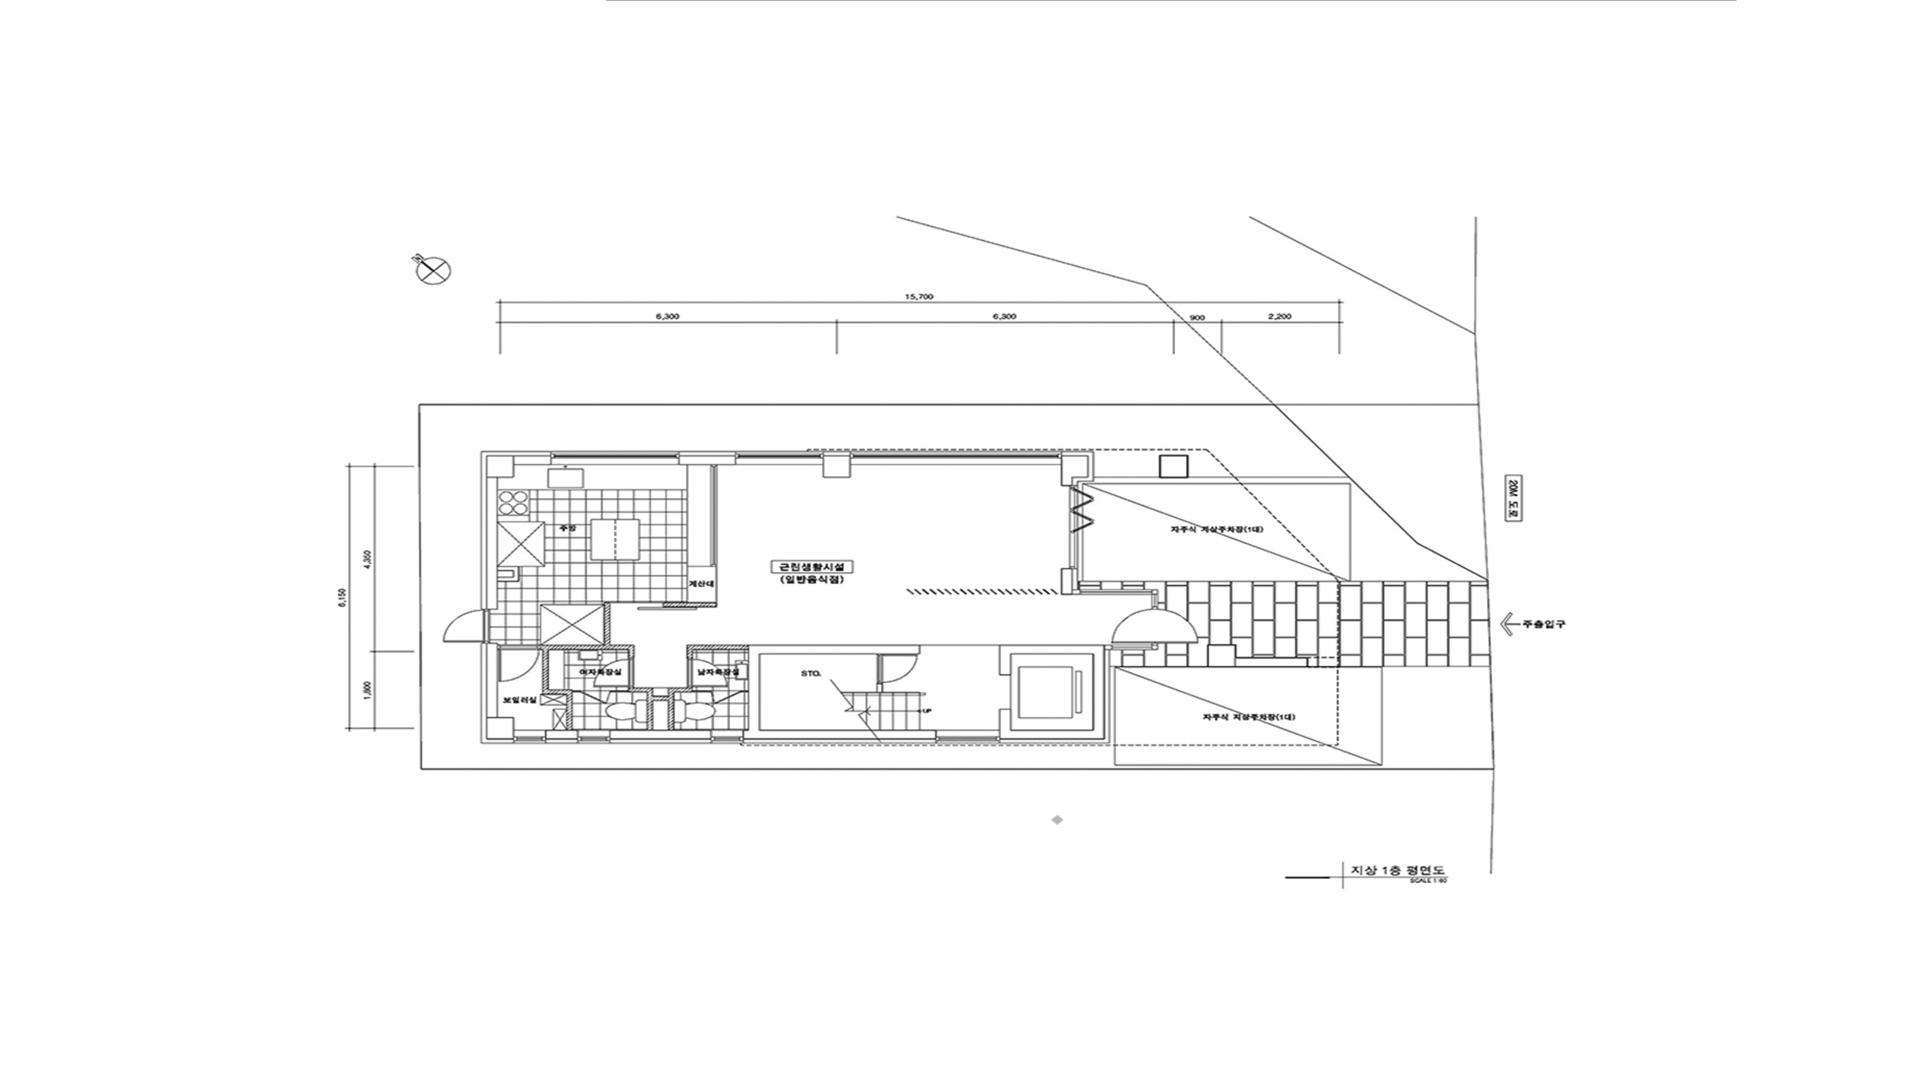door: (1110, 608, 1199, 644), (443, 609, 491, 642), (498, 645, 541, 682), (877, 654, 919, 683), (593, 658, 634, 687), (687, 659, 728, 687), (572, 690, 628, 704), (692, 690, 748, 703), (611, 601, 662, 609)
wall: (744, 729, 936, 742), (481, 477, 497, 609), (1000, 729, 1110, 744), (1092, 645, 1110, 729), (760, 645, 920, 654), (611, 729, 712, 744), (481, 644, 497, 717), (1062, 451, 1093, 485), (748, 645, 760, 729), (481, 451, 514, 477), (481, 717, 514, 744), (1000, 645, 1092, 654), (679, 451, 736, 464), (823, 451, 851, 477), (514, 451, 551, 464), (541, 645, 628, 650), (545, 731, 579, 744), (1062, 568, 1077, 595), (662, 601, 717, 608), (542, 650, 549, 695), (692, 645, 748, 650), (604, 601, 611, 644), (1000, 654, 1011, 675), (646, 692, 653, 729), (667, 692, 674, 729), (1000, 709, 1011, 729), (566, 695, 572, 729), (549, 688, 572, 695), (667, 687, 692, 692), (629, 687, 653, 692), (653, 695, 667, 702), (628, 645, 634, 658), (687, 645, 692, 658), (877, 683, 884, 692)
window: (851, 451, 1062, 464), (551, 451, 678, 464), (736, 451, 823, 465), (936, 729, 1000, 744), (709, 465, 717, 567), (1068, 485, 1077, 568), (514, 729, 545, 744), (579, 729, 609, 744), (712, 729, 742, 744), (1079, 589, 1158, 595), (1110, 645, 1158, 650), (1151, 595, 1158, 608)
